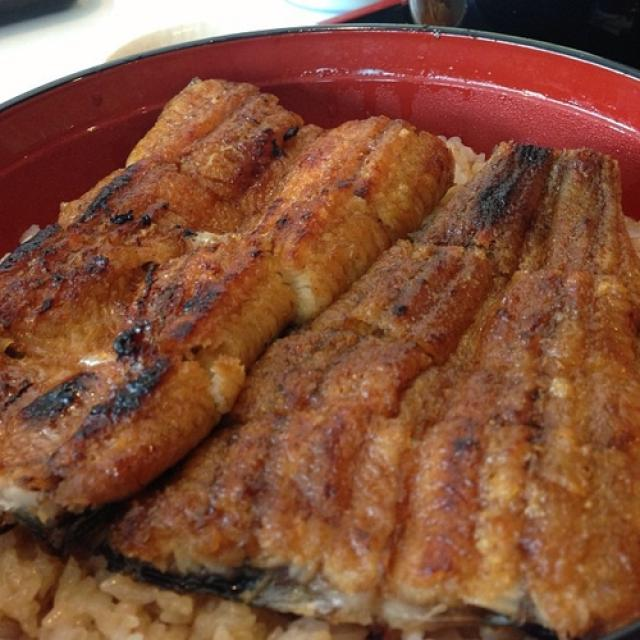熟制海鲜: (16, 26, 610, 624)
